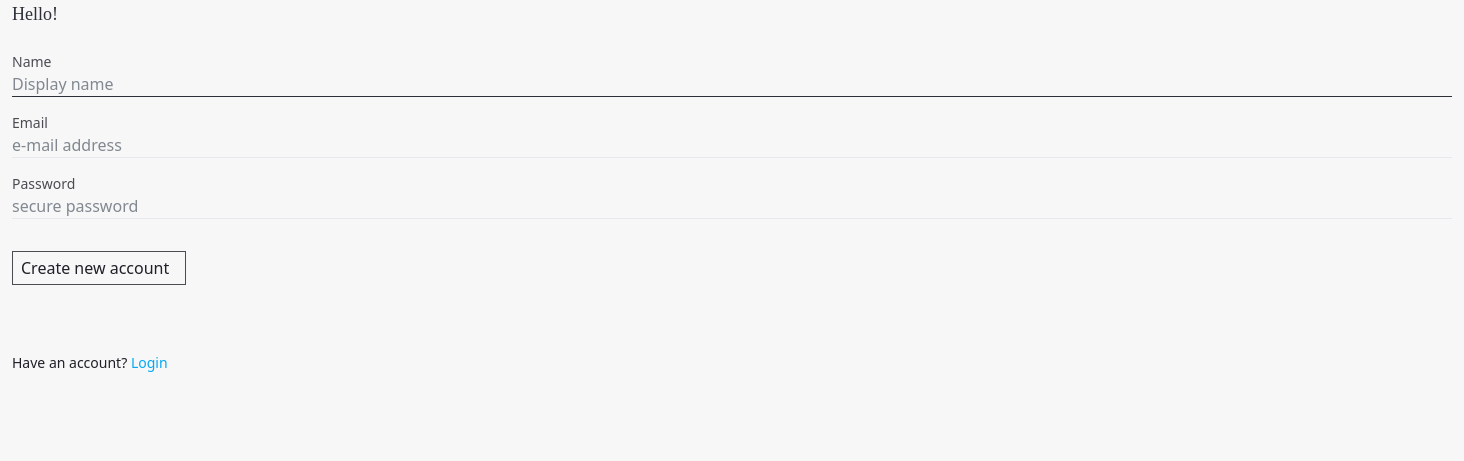
Scenario: renders <SignupView /> › should throw error for invlaid email and password
This screenshot has width=1464, height=461.
Type "me" into the field with test id "signup-name" at (732, 84), box [12,72,1452,97]
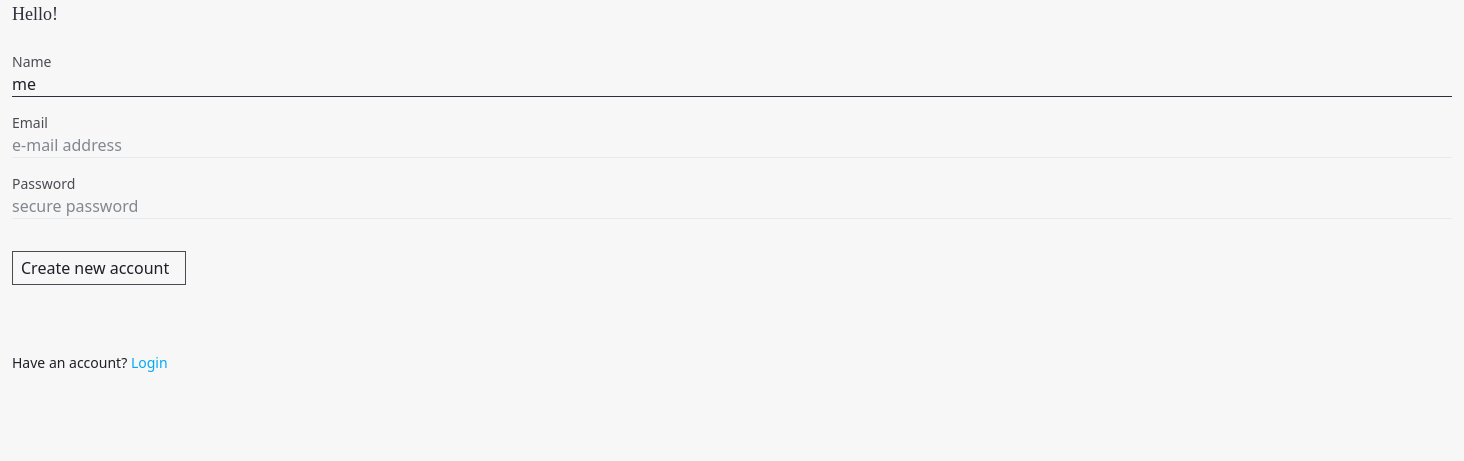
Type "e@com" into the field with test id "signup-email" at (732, 146), box [12,133,1452,158]
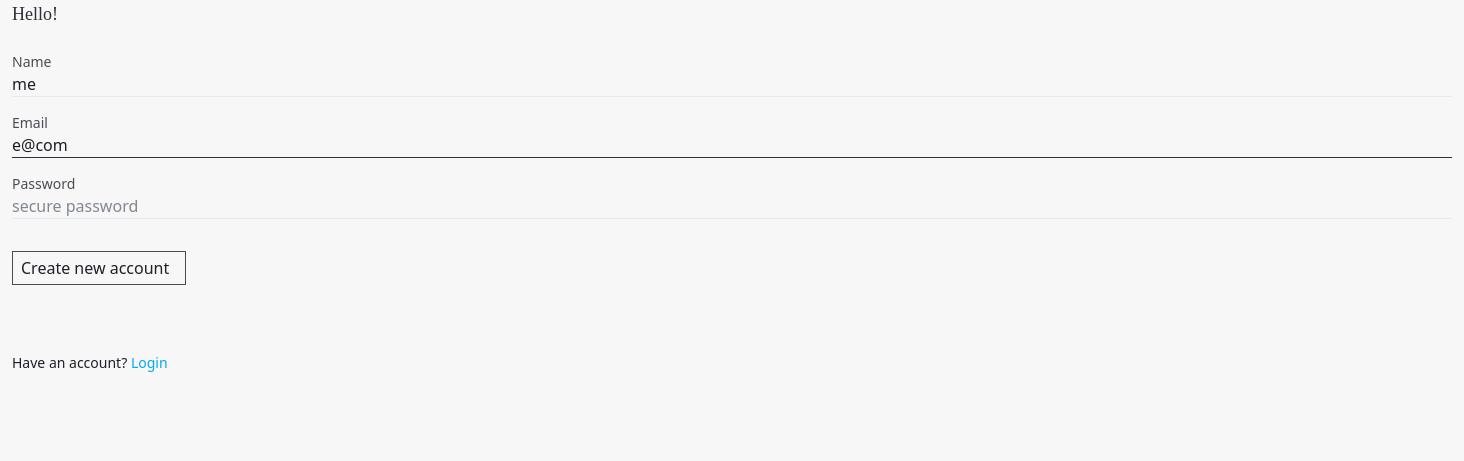
Type "1235" into the password field with test id "signup-password" at (732, 206), box [12,194,1452,219]
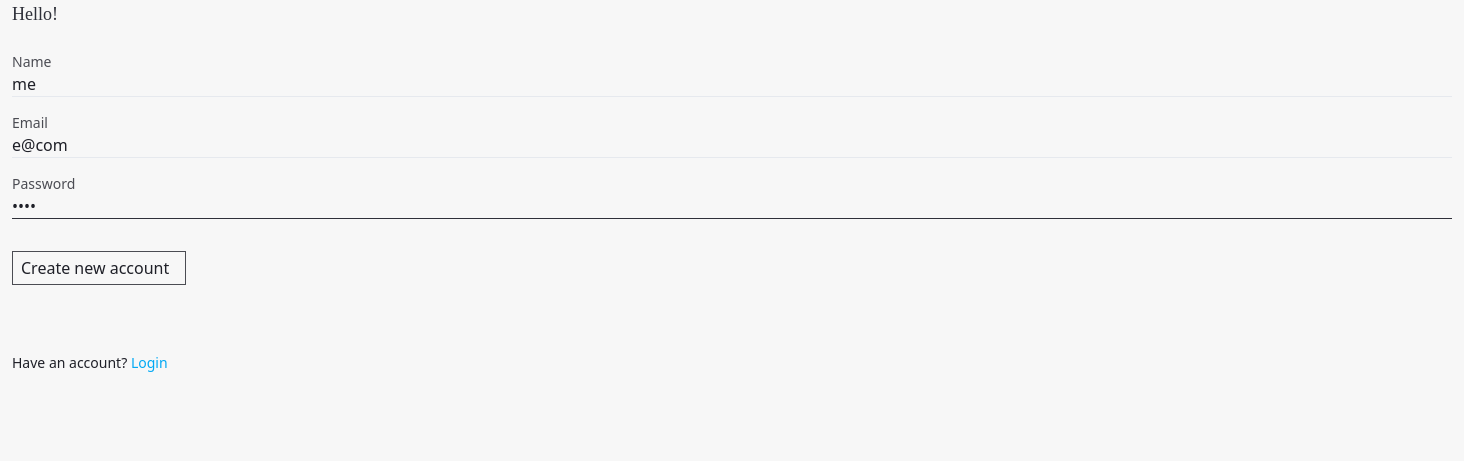
Click the button with test id "submit-signup" at (99, 268), box [12,251,186,285]
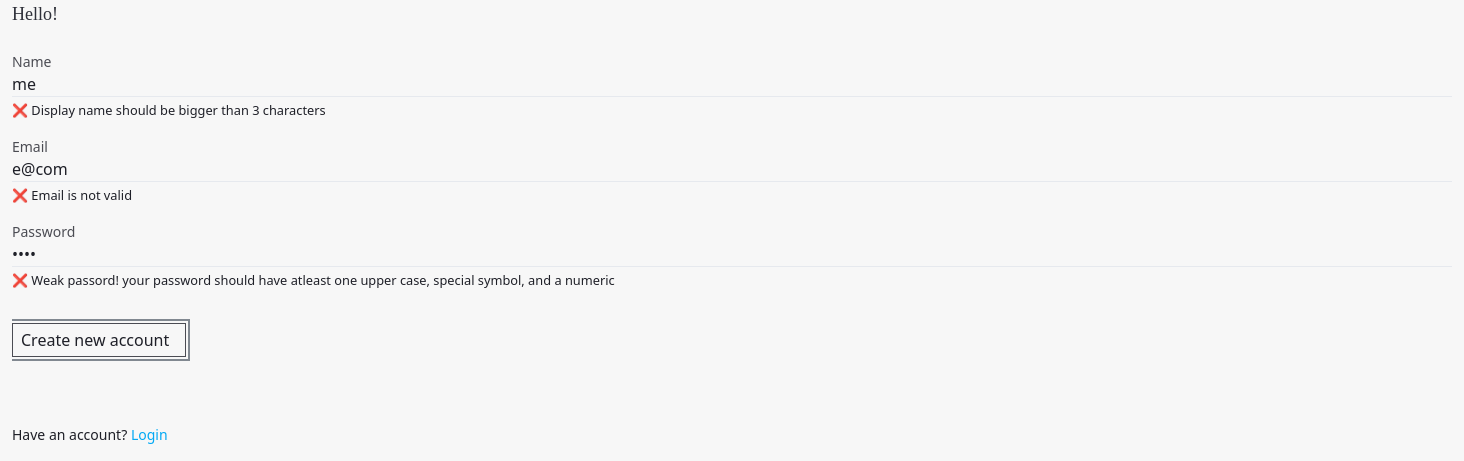
Expected: the text "❌ Display name should be bigger than 3 characters" is shown, [12,101,326,119]
Expected: the text "❌ Email is not valid" is shown, [12,186,132,204]
Expected: the text with test id "error-password" is shown, [12,271,615,289]
